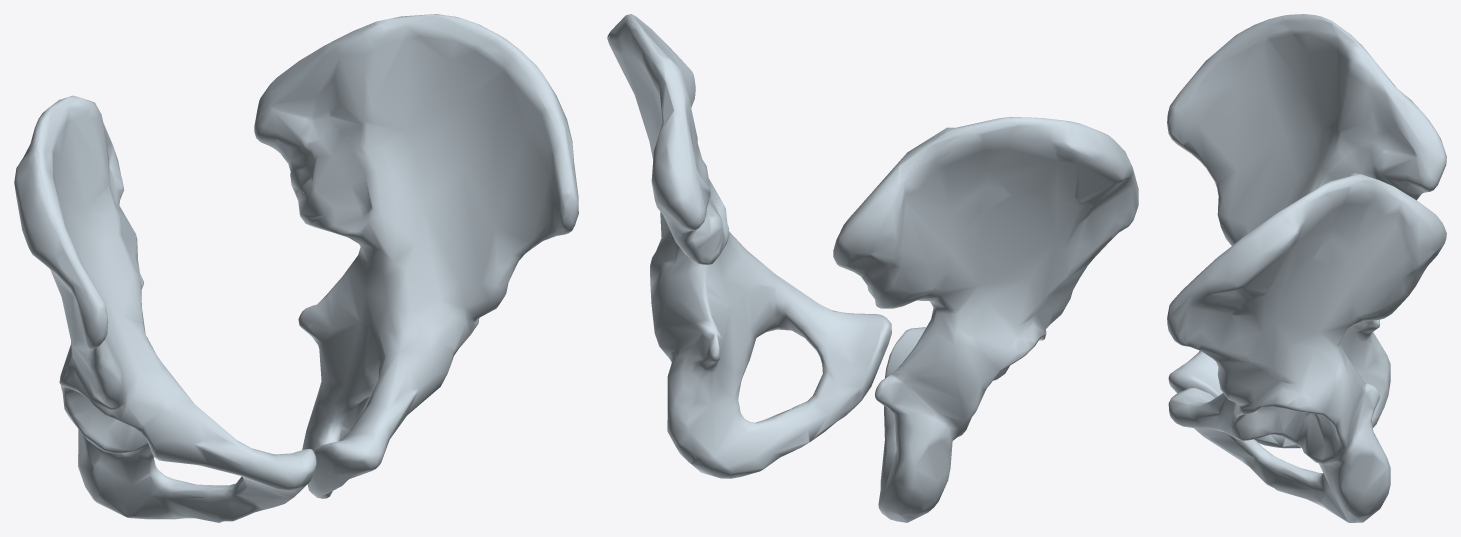
Rendered from hanche.glb.
3 renders of one model, left to right at view 1: azimuth 30°, elevation 25°; view 2: azimuth 150°, elevation 25°; view 3: azimuth 270°, elevation 25°, orthographic. The views are drawn at different scales.
Parts seen in each view (by area): view 1: hanche; view 2: hanche; view 3: hanche.
Boxes of the visible parts, left/top/right/bottom form: hanche: left=14, top=14, right=578, bottom=522; hanche: left=607, top=14, right=1138, bottom=522; hanche: left=1167, top=14, right=1446, bottom=522.
Bounding box in the file's own units: 0.2698 × 0.2146 × 0.1429.
